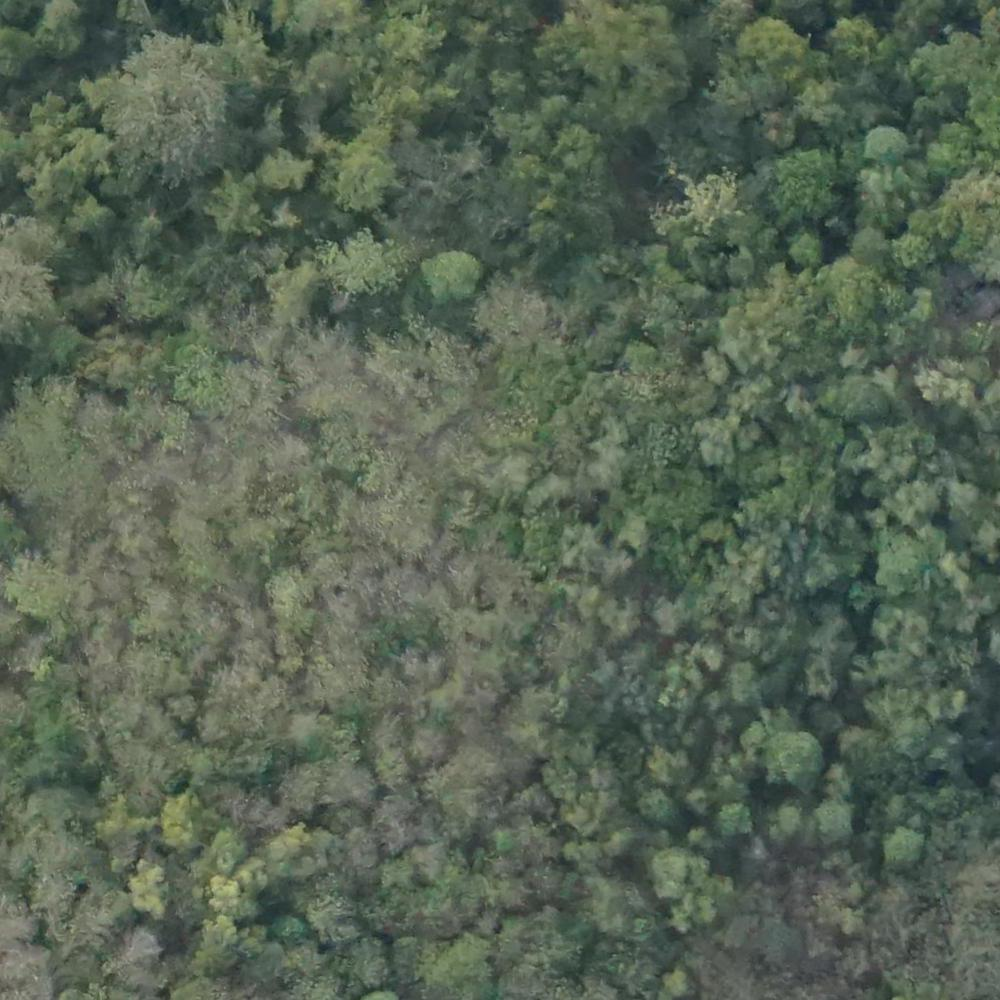tree: (104, 42, 226, 172), (475, 277, 544, 345), (772, 142, 832, 218), (741, 16, 809, 76), (874, 529, 935, 593), (424, 933, 481, 1000), (328, 144, 388, 201), (326, 237, 389, 289), (827, 376, 891, 422), (495, 99, 548, 151), (858, 121, 920, 165), (213, 182, 263, 232), (766, 732, 819, 779), (411, 712, 457, 766), (645, 849, 702, 892), (161, 794, 201, 849), (692, 418, 735, 468), (727, 665, 763, 721), (898, 231, 941, 276), (257, 149, 309, 186), (267, 575, 310, 619), (421, 253, 467, 291), (854, 229, 895, 271), (792, 232, 829, 275), (557, 129, 599, 166), (285, 762, 321, 800), (769, 804, 804, 843), (654, 971, 701, 1000), (814, 799, 849, 837), (645, 743, 685, 774), (295, 712, 330, 746), (641, 789, 675, 823), (888, 829, 919, 865), (130, 864, 164, 896), (713, 805, 744, 837)
